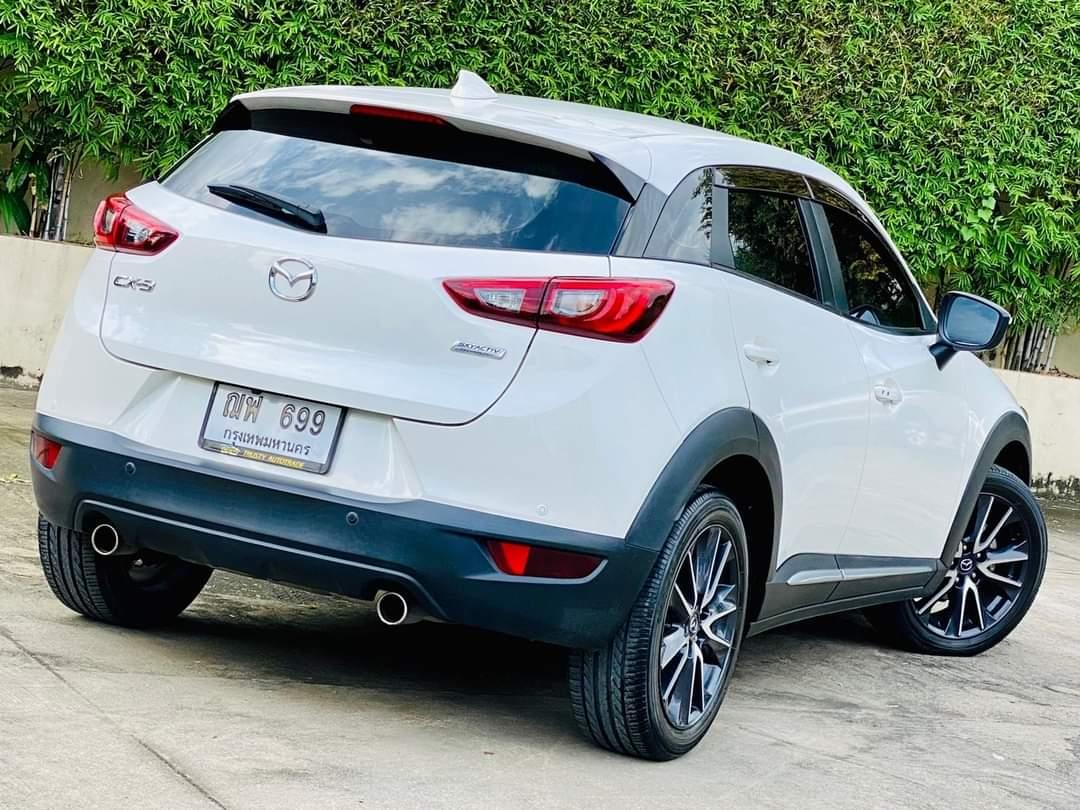license-plate: (194, 377, 350, 478)
